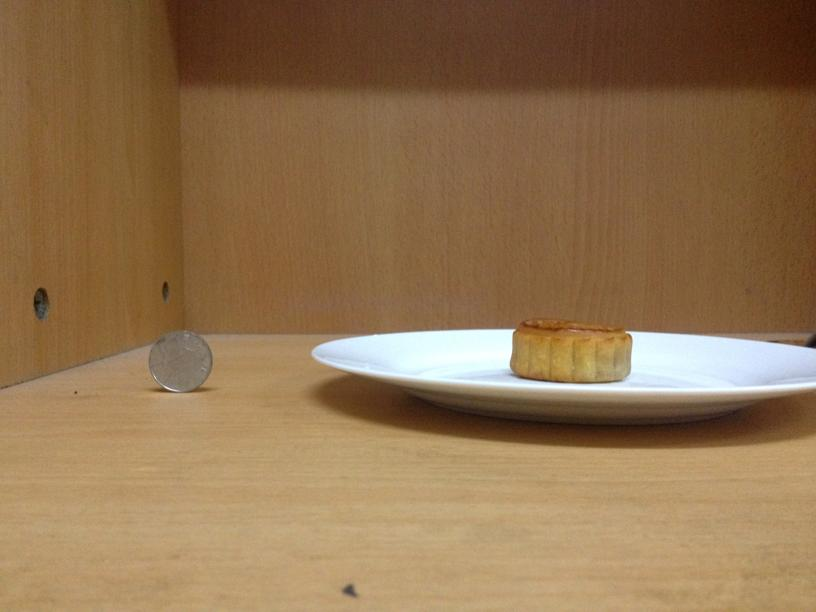coin: (148, 331, 213, 391)
mooncake: (507, 318, 632, 381)
